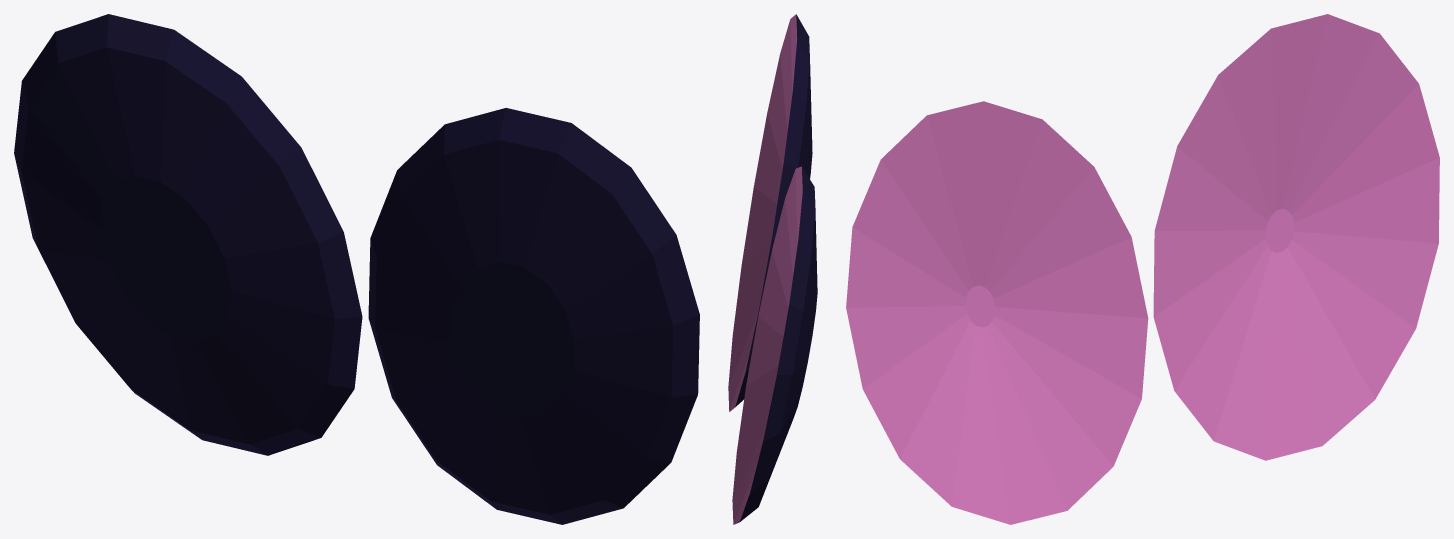
Rendered from EarsPair.fbx.
3 views of the same model, side by side, from view 1: azimuth 30°, elevation 25°; view 2: azimuth 150°, elevation 25°; view 3: azimuth 270°, elevation 25° (orthographic). The views are drawn at different scales.
Visible parts, largest first — view 1: MouseEarsExtra; view 2: MouseEarsExtra; view 3: MouseEarsExtra.
Boxes of the visible parts, box(x1,y1,x2,y2) form: MouseEarsExtra: box(14, 14, 699, 524); MouseEarsExtra: box(728, 14, 817, 524); MouseEarsExtra: box(846, 14, 1439, 524).
Bounding box in the file's own units: 36.33 × 42.34 × 57.92.
